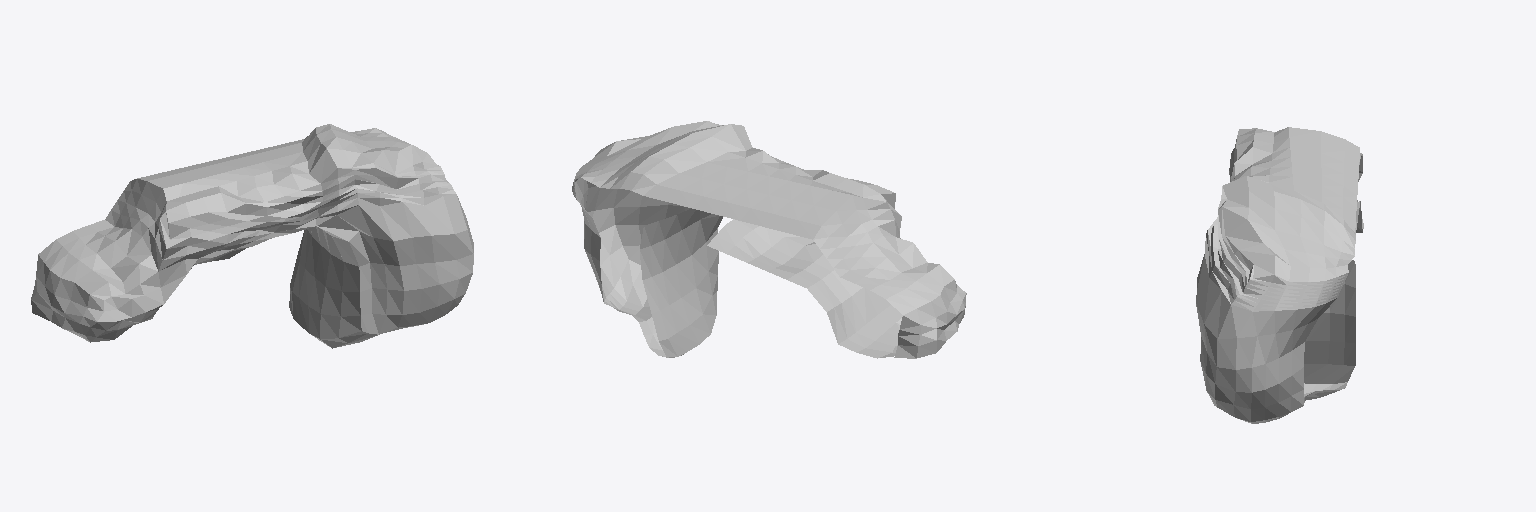
The model's file is Platform00.obj.
3 views of the same model, side by side, from view 1: azimuth 30°, elevation 25°; view 2: azimuth 150°, elevation 25°; view 3: azimuth 270°, elevation 25° (orthographic).
Parts seen in each view (by area): view 1: Cube.005_Cube.009; view 2: Cube.005_Cube.009; view 3: Cube.005_Cube.009.
Part boxes in pixels (bbox=[...]): Cube.005_Cube.009: bbox=[31, 124, 473, 348]; Cube.005_Cube.009: bbox=[572, 121, 966, 358]; Cube.005_Cube.009: bbox=[1196, 127, 1363, 423].
Bounding box in the file's own units: 8.76 × 4.53 × 3.24.